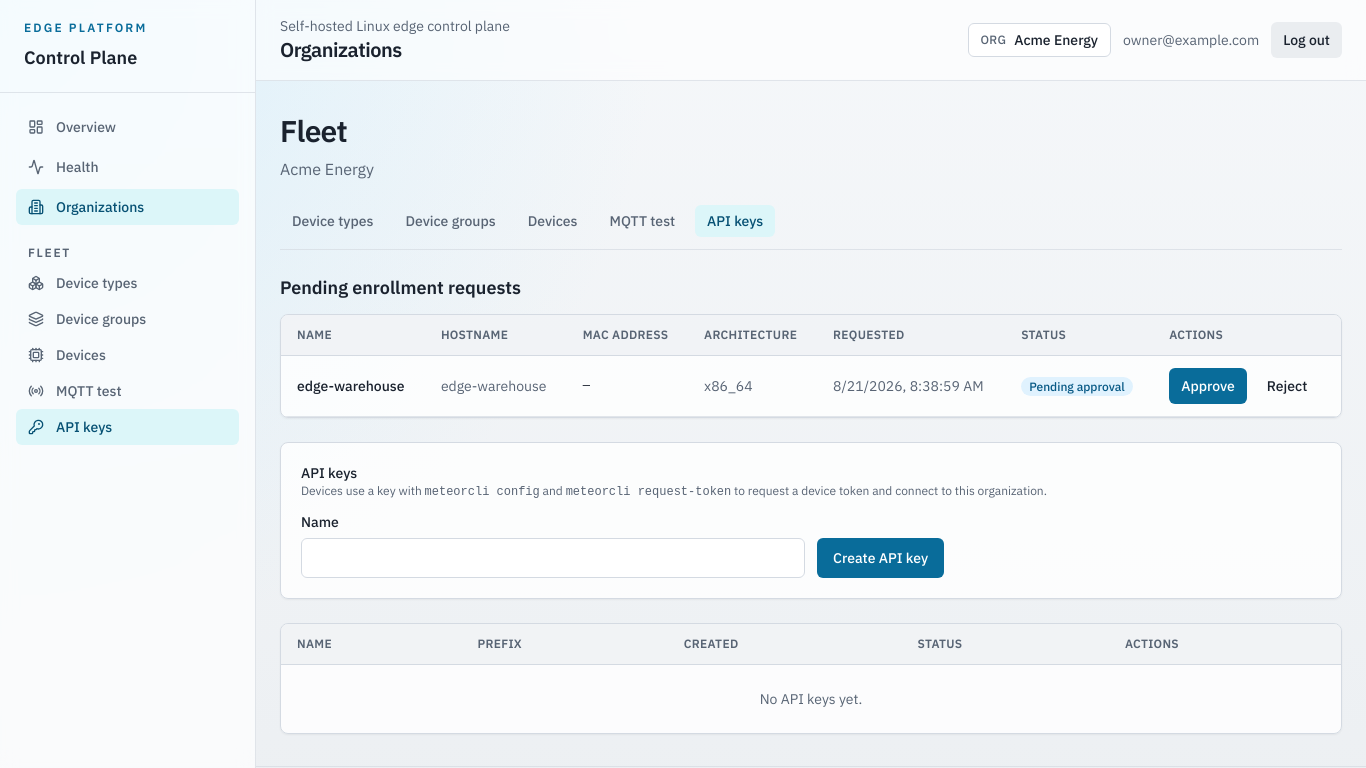
Test: API keys › approves a pending enrollment request
Check: the column heading "Requested" is shown, box top-left (817, 315), bottom-right (1005, 356)
Click the button "Approve": point(1208, 386) top-left (1169, 368), bottom-right (1247, 404)
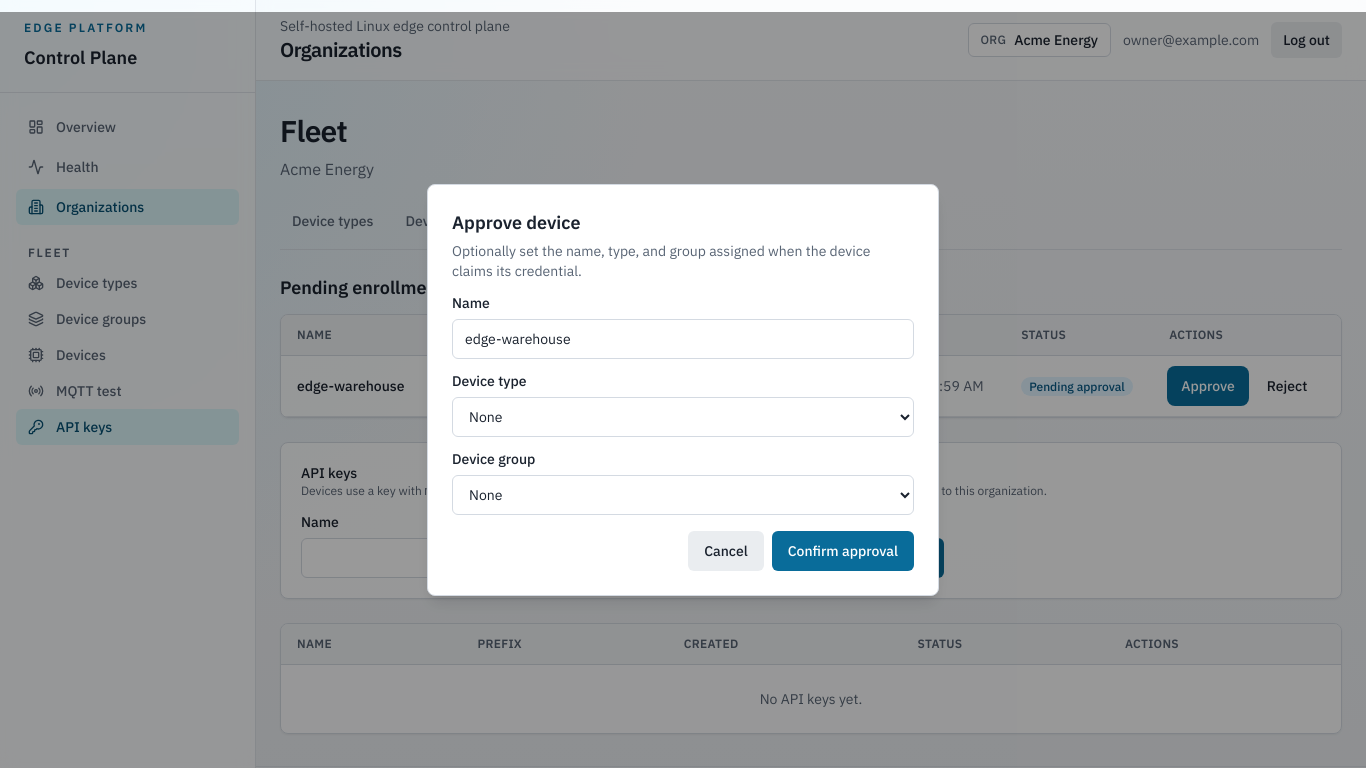
Click the button "Confirm approval": point(843, 551) top-left (772, 531), bottom-right (914, 571)
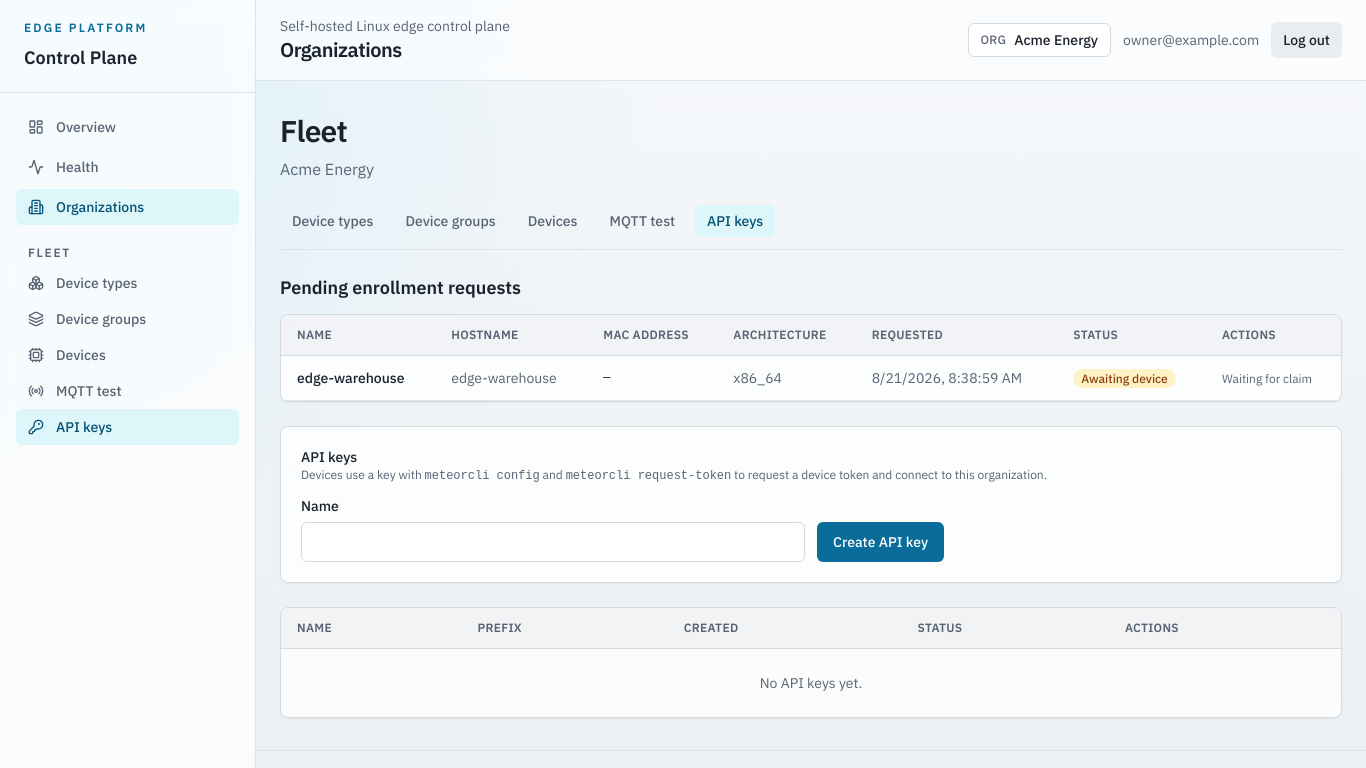
Check: the text "Awaiting device" is shown, box top-left (1073, 369), bottom-right (1176, 388)
Check: the button "Approve" is gone
